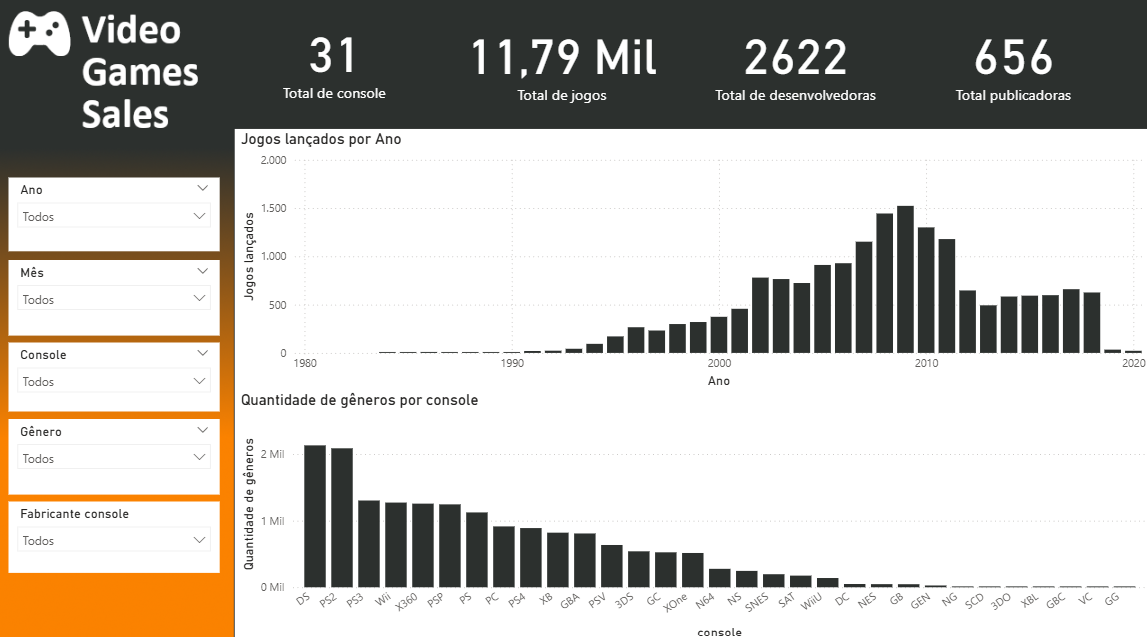

The dashboard page shown, as its layout file describes it:
{"tool":"powerbi","page":{"name":"Video Game Market Insights","canvas":[1280,720],"ordinal":0},"visuals":[{"type":"columnChart","fields":{"Category":["tabela_calendario.date.Variation.Hierarquia de datas.Ano"],"Y":["CountNonNull(df_vgchartz_tratado.Titulo)"]},"box":[264.8,148.2,1015.4,290.9],"z":0},{"type":"slicer","fields":{"Values":["tabela_calendario.date.Variation.Hierarquia de datas.Ano"]},"box":[12.3,201.7,234.6,82.3],"z":1},{"type":"slicer","fields":{"Values":["tabela_calendario.date.Variation.Hierarquia de datas.Mês"]},"box":[12.3,293.7,234.6,83.7],"z":2},{"type":"columnChart","fields":{"Category":["df_vgchartz_tratado.Console"],"Y":["CountNonNull(df_vgchartz_tratado.Genero)"]},"box":[264.8,439.1,1015.4,281.3],"z":3},{"type":"slicer","fields":{"Values":["df_vgchartz_tratado.Genero"]},"box":[12.3,469.3,234.6,83.7],"z":4},{"type":"slicer","fields":{"Values":["df_vgchartz_tratado.Console"]},"box":[12.3,385.6,234.6,76.8],"z":5},{"type":"slicer","fields":{"Values":["df_vgchartz_tratado.Fabricante"]},"box":[12.3,561.2,234.6,79.6],"z":6},{"type":"card","fields":{"Values":["Count(df_vgchartz_tratado.Titulo)"]},"box":[496.7,4.1,259.3,134.5],"z":7},{"type":"card","fields":{"Values":["Count(df_vgchartz_tratado.Desenvolvedora)"]},"box":[772.6,4.1,225,134.5],"z":8},{"type":"card","fields":{"Values":["Count(df_vgchartz_tratado.Publicadora)"]},"box":[1012.7,1.4,229.2,138.6],"z":9},{"type":"card","fields":{"Values":["Count(df_vgchartz_tratado.Console)"]},"box":[264.8,4.1,216.8,130.4],"z":10}]}

Visuals, with their boxes in screenshot pixels (x1, y1, x2, y2), scaled from the page's 1280x720 canvas onto the 1147x637 screenshot:
columnChart - tabela_calendario.date.Variation.Hierarquia de datas.Ano x CountNonNull(df_vgchartz_tratado.Titulo): BBox(237, 131, 1146, 388)
slicer - tabela_calendario.date.Variation.Hierarquia de datas.Ano: BBox(11, 178, 221, 251)
slicer - tabela_calendario.date.Variation.Hierarquia de datas.Mês: BBox(11, 260, 221, 334)
columnChart - df_vgchartz_tratado.Console x CountNonNull(df_vgchartz_tratado.Genero): BBox(237, 388, 1146, 636)
slicer - df_vgchartz_tratado.Genero: BBox(11, 415, 221, 489)
slicer - df_vgchartz_tratado.Console: BBox(11, 341, 221, 409)
slicer - df_vgchartz_tratado.Fabricante: BBox(11, 497, 221, 567)
card - Count(df_vgchartz_tratado.Titulo): BBox(445, 4, 677, 123)
card - Count(df_vgchartz_tratado.Desenvolvedora): BBox(692, 4, 894, 123)
card - Count(df_vgchartz_tratado.Publicadora): BBox(907, 1, 1113, 124)
card - Count(df_vgchartz_tratado.Console): BBox(237, 4, 432, 119)
